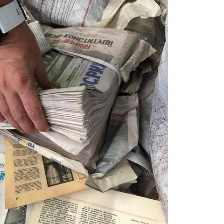news_paper: (0, 23, 147, 173), (0, 134, 92, 210), (34, 179, 168, 224)
